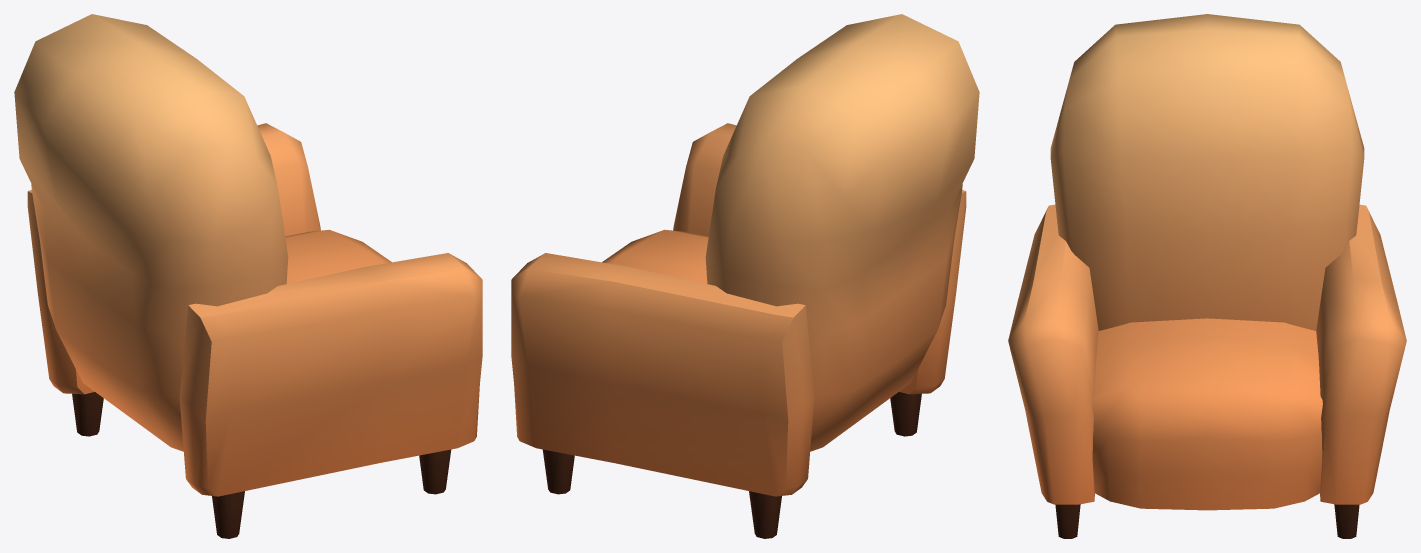
Rendered from Armchair.fbx.
3 renders of one model, left to right at view 1: azimuth 30°, elevation 25°; view 2: azimuth 150°, elevation 25°; view 3: azimuth 270°, elevation 25°, orthographic. The views are drawn at different scales.
Parts seen in each view (by area): view 1: Armchair2; view 2: Armchair2; view 3: Armchair2.
Boxes of the visible parts, x1,y1,x2,y2 form: Armchair2: (14, 14, 482, 538); Armchair2: (511, 14, 979, 538); Armchair2: (1008, 14, 1406, 538).
Size of the model in its own units: 121 by 141 by 125.
